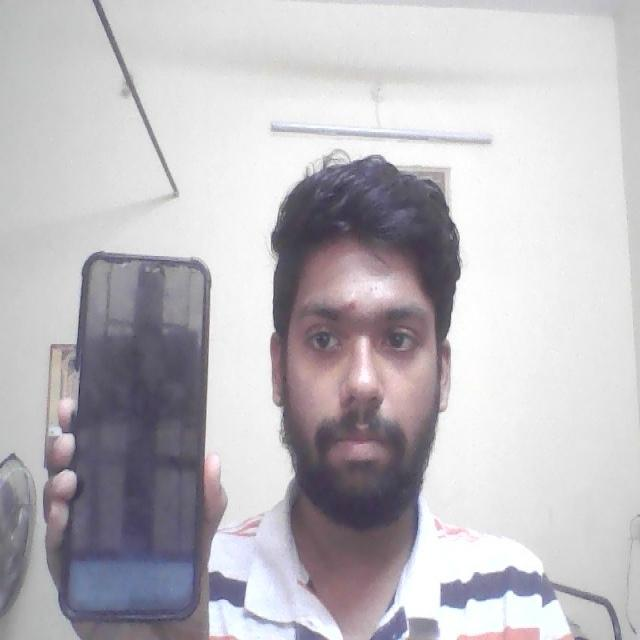Mobile: (64, 240, 215, 629)
